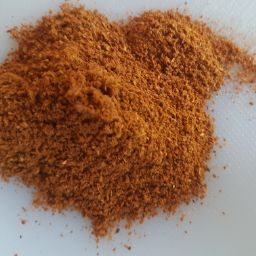Garam masala: (2, 51, 235, 242), (7, 3, 256, 143), (47, 25, 210, 233), (10, 122, 234, 237), (48, 4, 256, 102), (78, 82, 190, 191)
